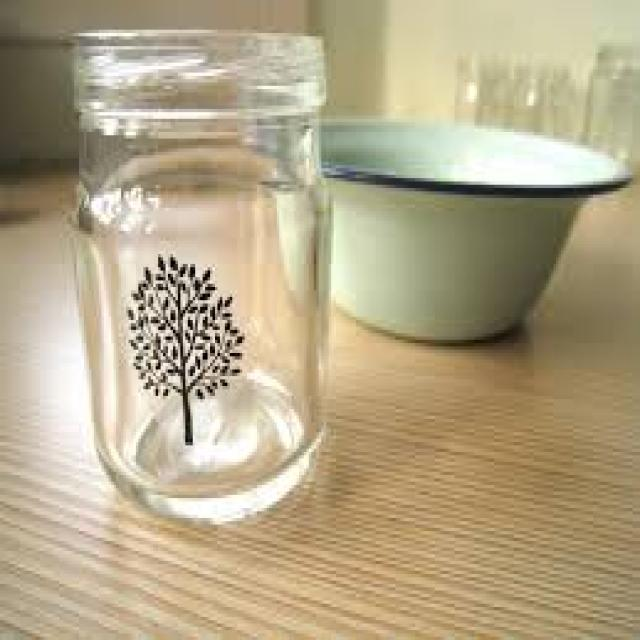glass: (67, 27, 326, 522), (583, 40, 638, 159), (455, 53, 512, 119), (549, 63, 578, 139), (514, 60, 546, 126)
